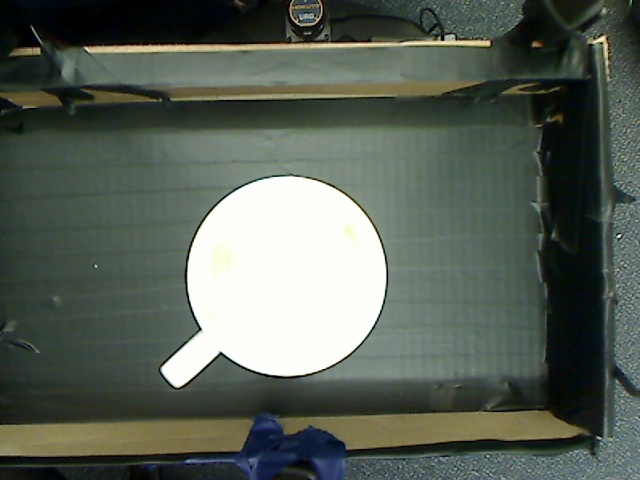mug: (130, 162, 413, 403)
